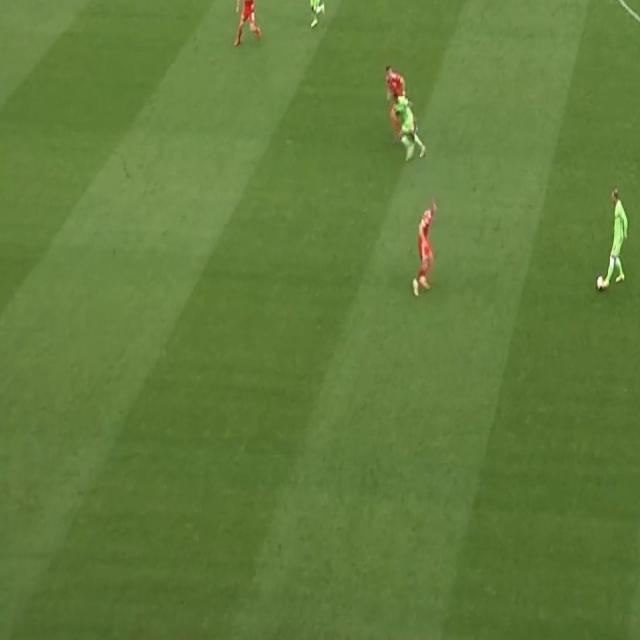ball: (596, 274, 604, 291)
